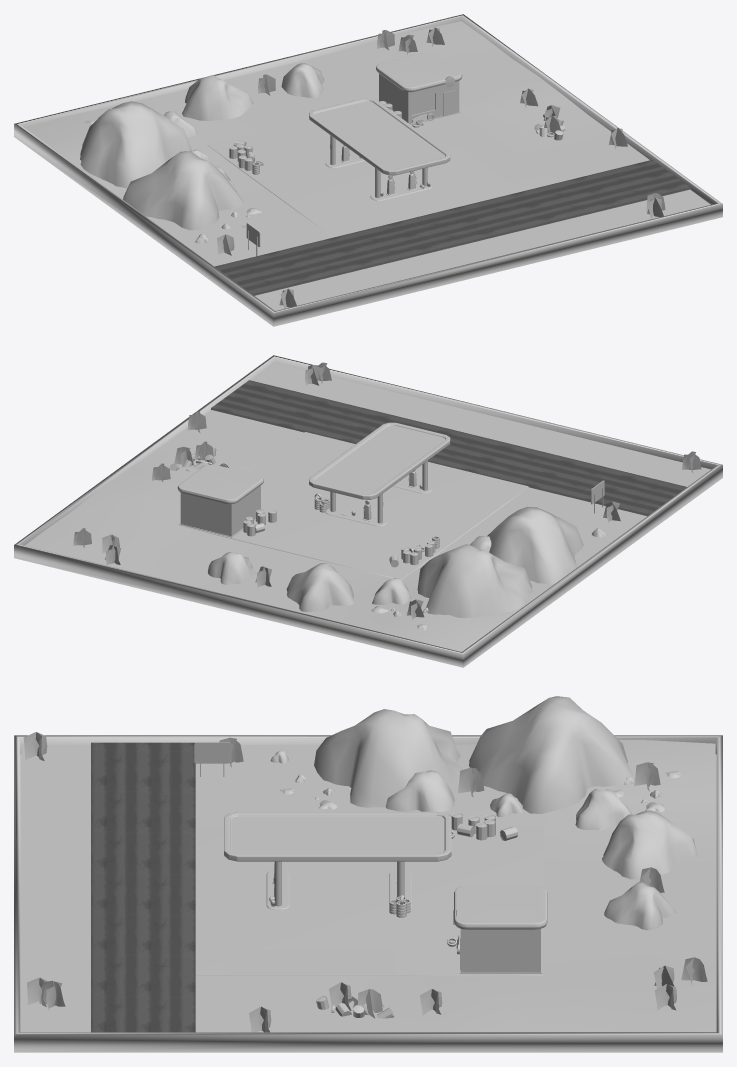
File: Jesus christ.fbx
3 views of the same model, one above another, from view 1: azimuth 30°, elevation 25°; view 2: azimuth 150°, elevation 25°; view 3: azimuth 270°, elevation 25° (orthographic). The views are drawn at different scales.
Parts seen in each view (by area): view 1: Land:Landscape, Road_man_shaq:Road, Concrete:Concrete, Land:pCube1, Rock7, Station:Roof, Rock8, Building:Buiding, Rock6, Rock16, pPlane1, pPlane2 (+1 smaller); view 2: Land:Landscape, Concrete:Concrete, Land:pCube1, Road_man_shaq:Road, Rock7, Station:Roof, Rock8, Building:Buiding, Rock6, Rock16, pPlane2, pPlane1 (+1 smaller); view 3: Land:Landscape, Road_man_shaq:Road, Concrete:Concrete, Land:pCube1, Rock7, Station:Roof, Rock8, Building:Buiding, Rock6, Rock16, Rock3, Rock15 (+5 smaller).
Part boxes in pixels (left/top/right/bottom): Land:Landscape: left=25, top=21, right=710, bottom=310; Road_man_shaq:Road: left=215, top=159, right=690, bottom=295; Concrete:Concrete: left=207, top=111, right=557, bottom=237; Land:pCube1: left=14, top=14, right=722, bottom=326; Rock7: left=80, top=101, right=192, bottom=188; Station:Roof: left=309, top=98, right=450, bottom=175; Rock8: left=123, top=151, right=243, bottom=230; Building:Buiding: left=376, top=52, right=462, bottom=124; Rock6: left=182, top=75, right=253, bottom=121; Rock16: left=281, top=63, right=324, bottom=97; pPlane1: left=469, top=144, right=525, bottom=168; pPlane2: left=490, top=160, right=546, bottom=184; Land:Landscape: left=25, top=363, right=710, bottom=651; Concrete:Concrete: left=178, top=432, right=528, bottom=579; Land:pCube1: left=14, top=355, right=722, bottom=667; Road_man_shaq:Road: left=211, top=380, right=686, bottom=516; Rock7: left=417, top=544, right=532, bottom=617; Station:Roof: left=309, top=422, right=450, bottom=499; Rock8: left=487, top=506, right=583, bottom=584; Building:Buiding: left=177, top=464, right=263, bottom=537; Rock6: left=286, top=563, right=353, bottom=612; Rock16: left=207, top=552, right=255, bottom=584; pPlane2: left=274, top=439, right=330, bottom=463; pPlane1: left=253, top=455, right=309, bottom=478; Land:Landscape: left=21, top=740, right=715, bottom=1032; Road_man_shaq:Road: left=91, top=742, right=195, bottom=1032; Concrete:Concrete: left=196, top=825, right=543, bottom=975; Land:pCube1: left=14, top=735, right=722, bottom=1052; Rock7: left=469, top=696, right=633, bottom=813; Station:Roof: left=224, top=811, right=451, bottom=861; Rock8: left=314, top=709, right=462, bottom=807; Building:Buiding: left=454, top=885, right=547, bottom=973; Rock6: left=602, top=810, right=697, bottom=879; Rock16: left=604, top=882, right=676, bottom=930; Rock3: left=386, top=770, right=454, bottom=812; Rock15: left=575, top=789, right=631, bottom=830.
Bounding box in the file's own units: 30.62 × 4.11 × 30.62.
